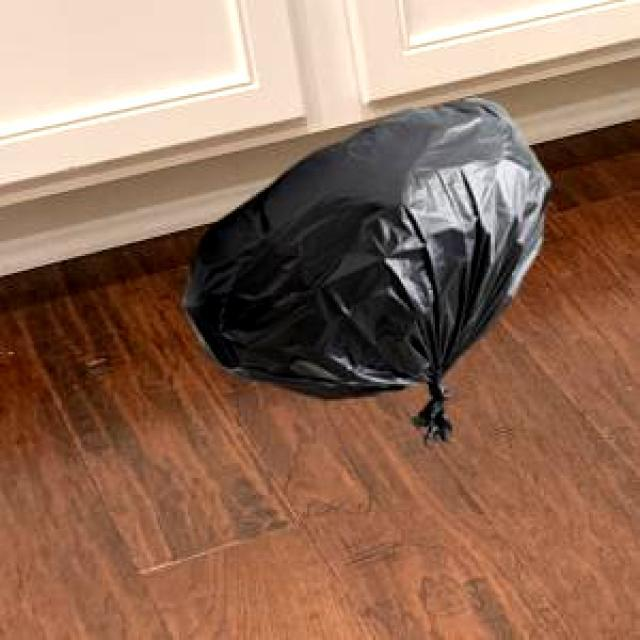Bolsa-de-nilon: (182, 98, 553, 446)
